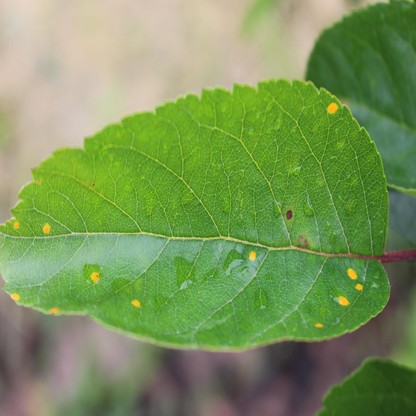rust: (338, 293, 349, 306), (327, 102, 338, 114), (347, 267, 357, 279), (90, 271, 99, 283), (248, 249, 257, 260), (42, 223, 50, 234), (10, 292, 20, 300), (131, 298, 142, 305), (354, 282, 363, 290), (49, 306, 58, 314), (12, 220, 19, 228), (286, 210, 292, 219), (314, 321, 323, 326), (36, 178, 42, 183)
scab: (295, 234, 309, 250)
